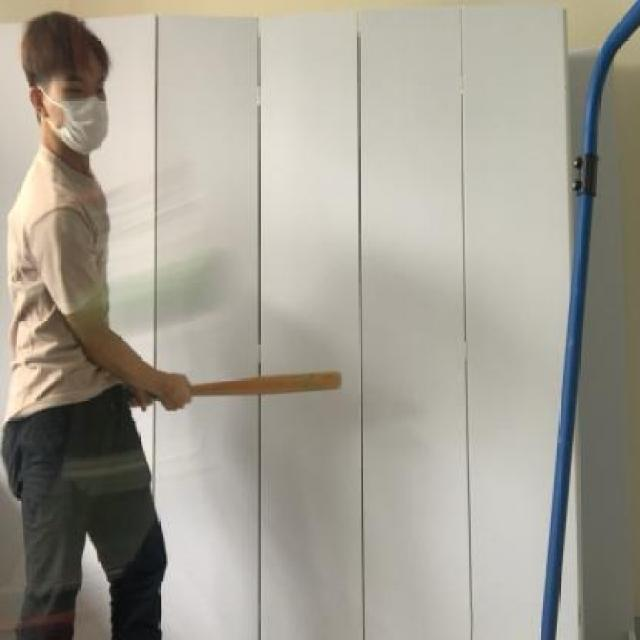baseball: (64, 246, 245, 336)
